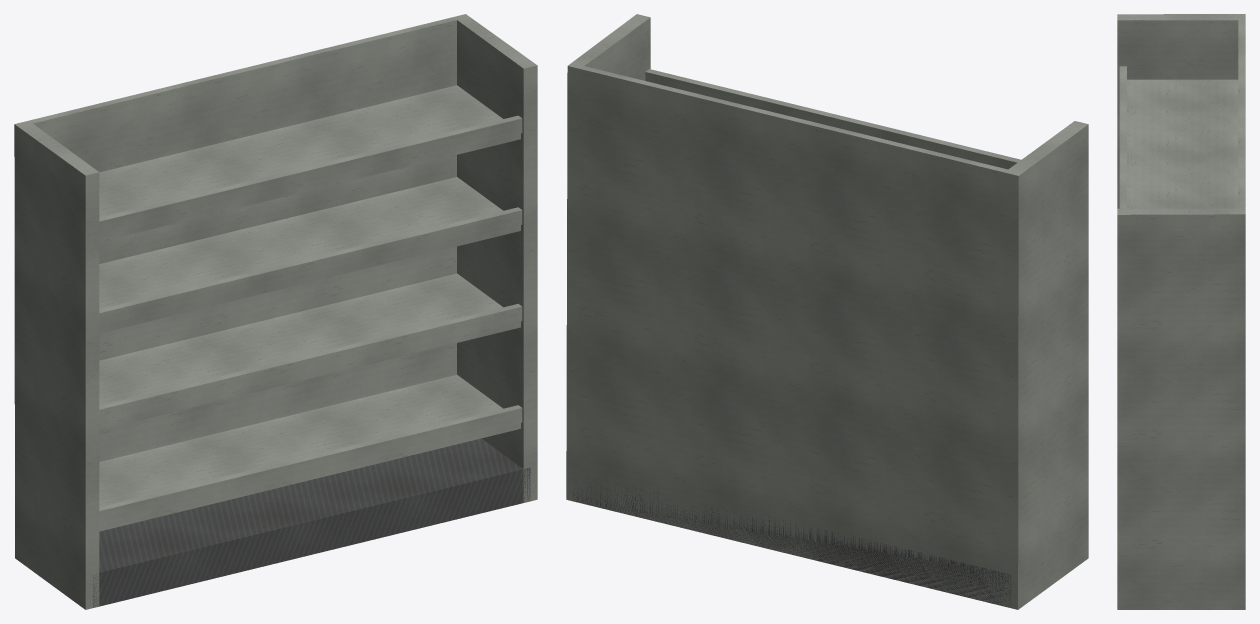
The model's file is shelf_v3.glb.
The picture shows the model from 3 angles, left to right: view 1: azimuth 30°, elevation 25°; view 2: azimuth 150°, elevation 25°; view 3: azimuth 270°, elevation 25°; orthographic projection. The views are drawn at different scales.
Visible parts, largest first — view 1: Variant_shelf_3; view 2: Variant_shelf_3; view 3: Variant_shelf_3.
Part boxes in pixels (box(x1,y1,x2,y2)): Variant_shelf_3: box(14, 14, 537, 609); Variant_shelf_3: box(566, 14, 1088, 609); Variant_shelf_3: box(1117, 14, 1245, 609).
Size of the model in its own units: 1.96 by 1.8 by 0.53.
2 materials, 2 textured.
